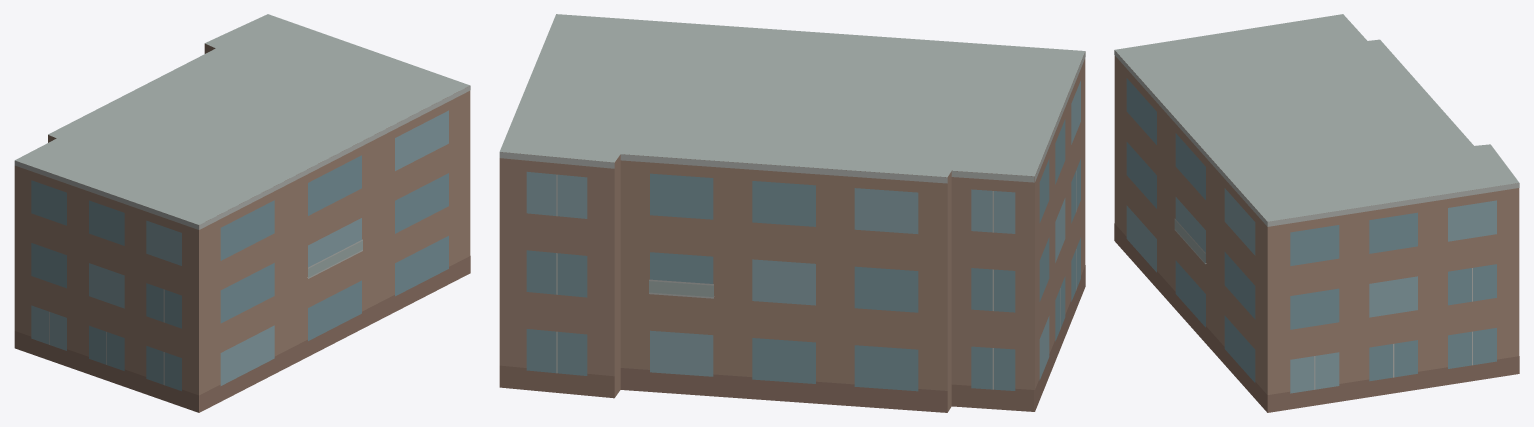
Rendered from survey-upis-32847494.glb.
3 renders of one model, left to right at view 1: azimuth 30°, elevation 25°; view 2: azimuth 150°, elevation 25°; view 3: azimuth 270°, elevation 25°, orthographic. The views are drawn at different scales.
Visible parts, largest first — view 1: survey-upis-32847494.tmp; view 2: survey-upis-32847494.tmp; view 3: survey-upis-32847494.tmp.
Boxes of the visible parts, x1,y1,x2,y2 form: survey-upis-32847494.tmp: [14, 14, 470, 412]; survey-upis-32847494.tmp: [499, 14, 1085, 412]; survey-upis-32847494.tmp: [1114, 14, 1519, 412].
Size of the model in its own units: 21.35 by 9.15 by 17.59.
